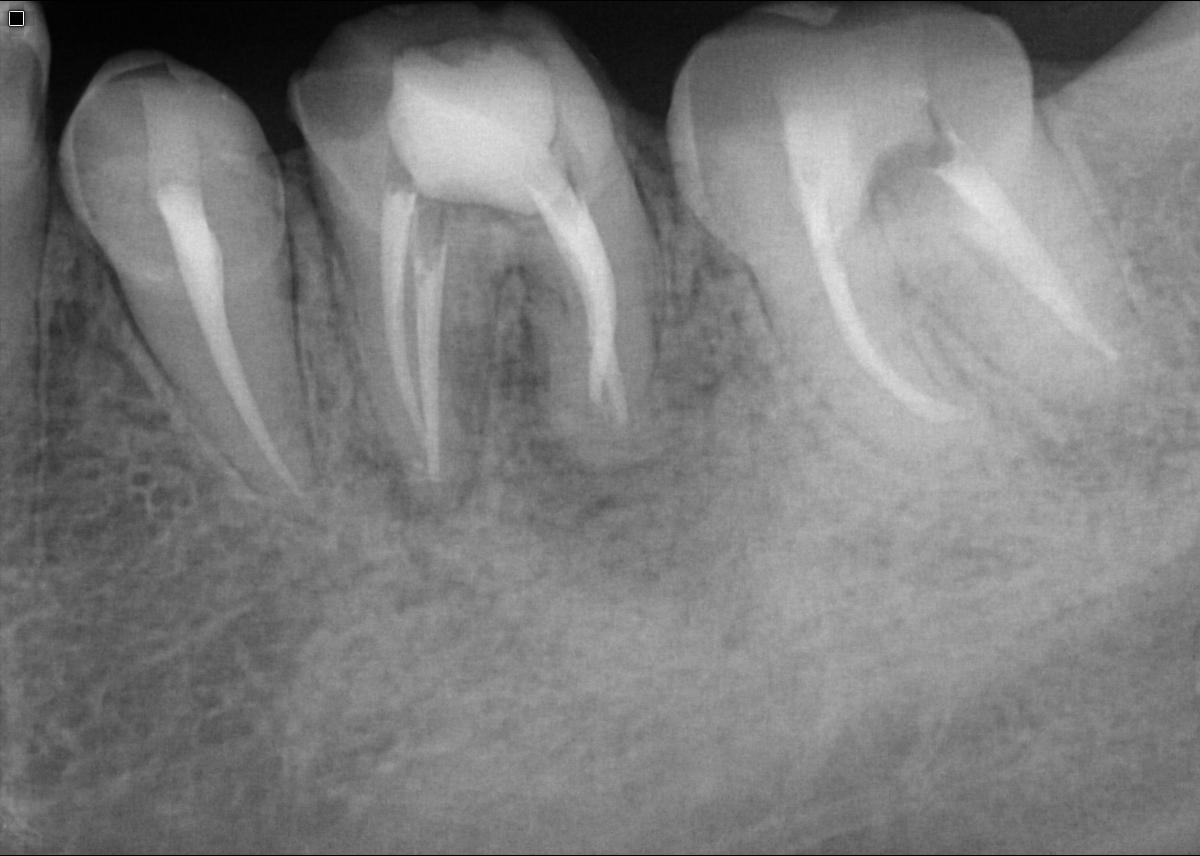Furcation Involvement: (346, 430, 473, 525)
